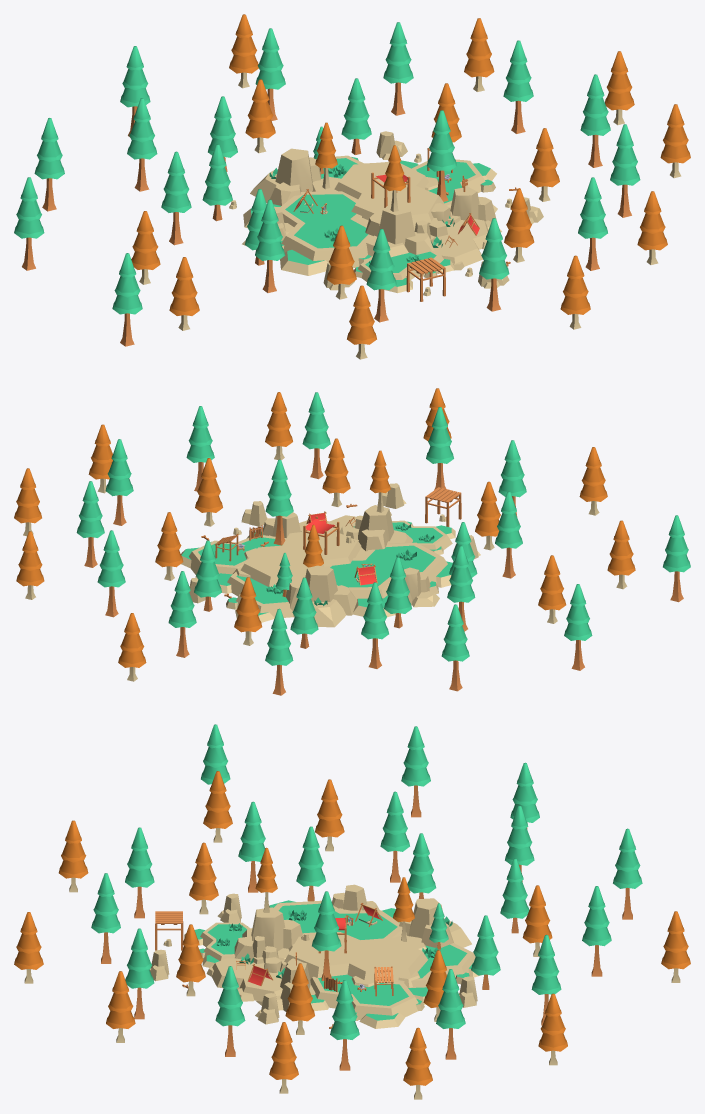
The picture shows the model from 3 angles, top to bottom: view 1: azimuth 30°, elevation 25°; view 2: azimuth 150°, elevation 25°; view 3: azimuth 270°, elevation 25°; orthographic projection. The views are drawn at different scales.
Visible parts, largest first — view 1: rockFlatGrass.001, rockFlat, rockB.002, rockB, rockFlat.001, rockFlatGrass.002, treeLarge.008, treeLarge.013, treeLarge.004, treeLarge.009, treeLarge.002, treeLarge.006 (+34 smaller); view 2: rockFlatGrass.001, rockFlat, rockB.002, rockFlatGrass.003, rockFlatGrass.002, rockB, treeLarge.006, treeLarge.008, treeLarge.011, treeLarge.010, treeLarge.013, treeLarge.015 (+35 smaller); view 3: rockFlat, rockFlatGrass.002, rockFlatGrass.001, rockB, rockFlat.001, rockFlatGrass.003, rockB.002, rockFlatGrass, treeLarge.004, treeLarge.001, treeLarge.006, treeLarge.007 (+35 smaller).
Part boxes in pixels (left/top/right/bottom): rockFlatGrass.001: left=243, top=191, right=373, bottom=275; rockFlat: left=312, top=162, right=444, bottom=226; rockB.002: left=250, top=148, right=321, bottom=205; rockB: left=365, top=203, right=434, bottom=257; rockFlat.001: left=430, top=219, right=488, bottom=270; rockFlatGrass.002: left=411, top=159, right=497, bottom=212; treeLarge.008: left=580, top=74, right=610, bottom=167; treeLarge.013: left=34, top=118, right=64, bottom=211; treeLarge.004: left=366, top=229, right=396, bottom=322; treeLarge.009: left=503, top=40, right=533, bottom=133; treeLarge.002: left=127, top=98, right=157, bottom=191; treeLarge.006: left=578, top=177, right=607, bottom=270; rockFlatGrass.001: left=325, top=542, right=452, bottom=617; rockFlat: left=233, top=529, right=366, bottom=586; rockB.002: left=286, top=565, right=357, bottom=627; rockFlatGrass.003: left=217, top=564, right=294, bottom=622; rockFlatGrass.002: left=180, top=532, right=286, bottom=577; rockB: left=357, top=505, right=412, bottom=551; treeLarge.006: left=302, top=392, right=330, bottom=479; treeLarge.008: left=105, top=439, right=133, bottom=525; treeLarge.011: left=168, top=571, right=196, bottom=657; treeLarge.010: left=97, top=530, right=125, bottom=617; treeLarge.013: left=441, top=604, right=469, bottom=691; treeLarge.015: left=663, top=515, right=690, bottom=602; rockFlat: left=280, top=932, right=427, bottom=987; rockFlatGrass.002: left=310, top=974, right=424, bottom=1028; rockFlatGrass.001: left=269, top=900, right=406, bottom=939; rockB: left=234, top=907, right=302, bottom=960; rockFlat.001: left=206, top=958, right=282, bottom=1001; rockFlatGrass.003: left=390, top=943, right=480, bottom=1004; rockB.002: left=399, top=898, right=471, bottom=947; rockFlatGrass: left=184, top=922, right=250, bottom=967; treeLarge.004: left=125, top=827, right=154, bottom=918; treeLarge.001: left=380, top=791, right=409, bottom=882; treeLarge.006: left=125, top=928, right=154, bottom=1019; treeLarge.007: left=215, top=966, right=245, bottom=1056.
Size of the model in its own units: 12.43 by 2.35 by 11.93.
